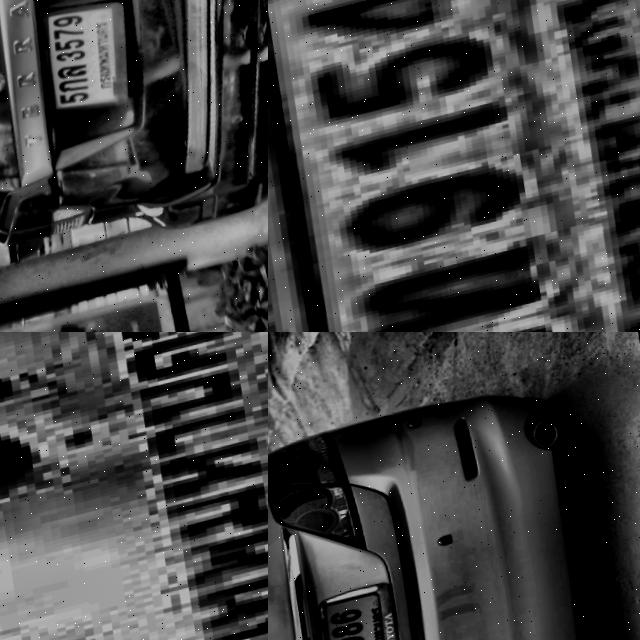license-plate: (268, 0, 640, 332), (0, 332, 268, 640), (30, 0, 141, 123), (300, 576, 424, 640)
